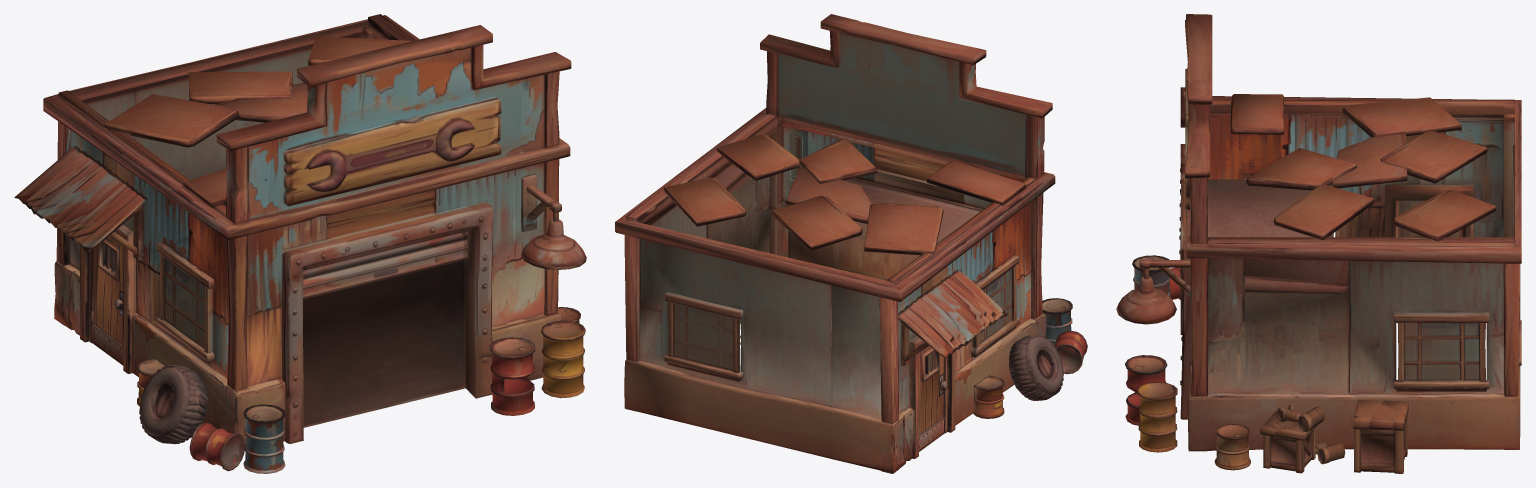
The model's file is wl_garage.glb.
The picture shows the model from 3 angles, left to right: view 1: azimuth 30°, elevation 25°; view 2: azimuth 150°, elevation 25°; view 3: azimuth 270°, elevation 25°; orthographic projection. The views are drawn at different scales.
Parts seen in each view (by area): view 1: wl_garage; view 2: wl_garage; view 3: wl_garage.
Boxes of the visible parts, <box> form: wl_garage: <box>14,14,586,473</box>; wl_garage: <box>615,14,1087,473</box>; wl_garage: <box>1116,14,1521,473</box>.
Size of the model in its own units: 0.9995 by 0.8081 by 0.8931.
1 material, 1 textured.
